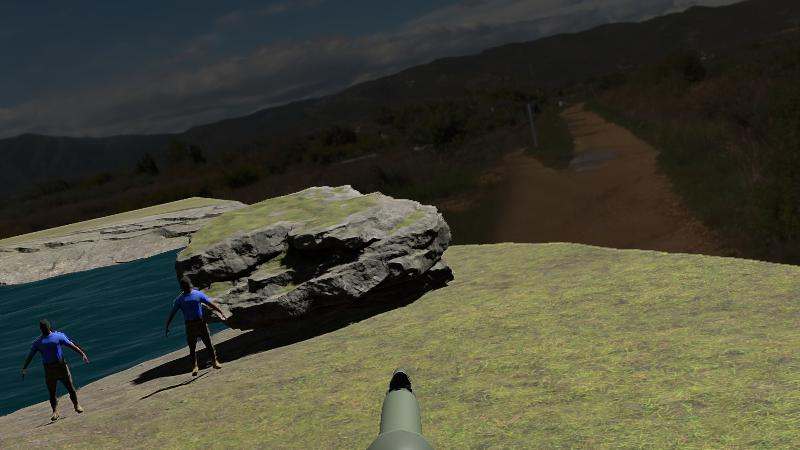Human: (21, 318, 86, 422), (165, 275, 223, 378)
